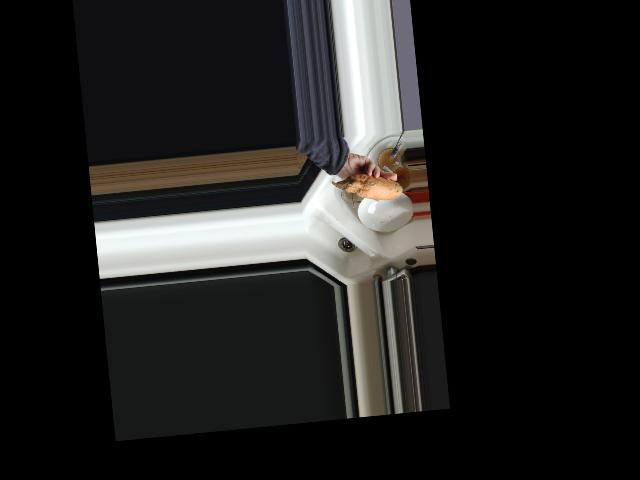sweet_potato: (331, 170, 403, 207)
